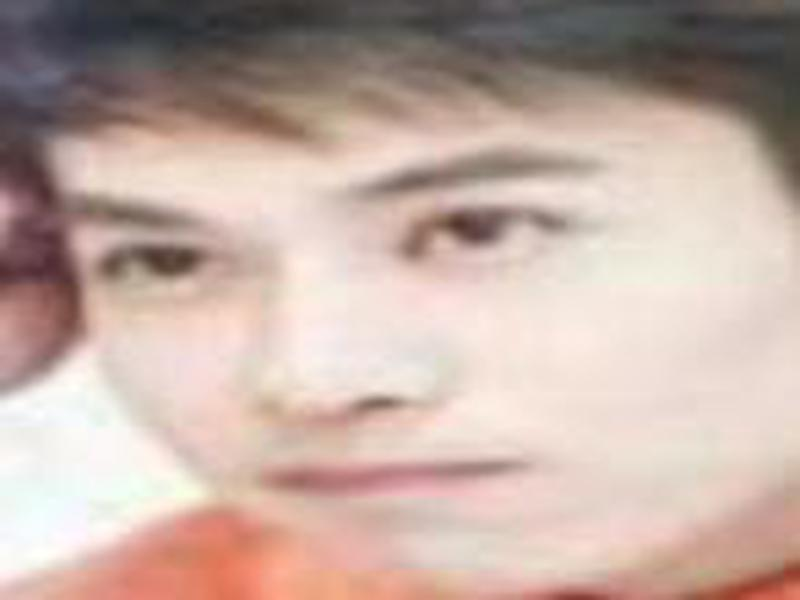without_mask: (44, 76, 770, 585)
